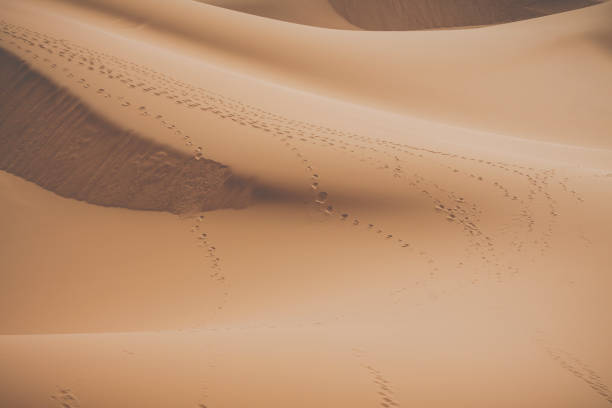animal_footprint: (9, 26, 551, 203), (68, 43, 314, 168), (67, 43, 345, 145), (71, 44, 346, 147), (434, 168, 539, 281), (319, 200, 439, 278), (410, 147, 553, 206), (435, 192, 521, 282), (315, 192, 414, 251), (401, 172, 482, 244), (535, 332, 611, 403), (51, 39, 144, 97), (275, 129, 337, 215), (429, 183, 496, 261), (287, 129, 400, 171), (305, 160, 373, 229), (353, 221, 438, 273), (283, 127, 387, 167), (273, 131, 328, 205), (116, 95, 192, 146), (117, 96, 193, 147), (117, 96, 192, 146), (547, 347, 611, 403), (191, 214, 228, 309), (138, 106, 203, 159), (324, 206, 408, 246), (521, 169, 560, 254), (349, 135, 426, 177), (429, 152, 524, 183), (352, 348, 399, 407), (454, 236, 513, 283), (0, 21, 56, 68), (388, 263, 446, 308), (389, 274, 447, 307), (361, 142, 414, 178), (388, 275, 444, 309), (534, 187, 560, 254), (194, 350, 223, 407), (574, 359, 611, 403), (43, 58, 95, 88), (62, 67, 110, 98), (500, 209, 534, 252), (191, 215, 218, 268), (365, 365, 398, 407), (511, 186, 536, 235), (200, 233, 224, 280), (470, 235, 501, 270), (558, 177, 583, 202), (50, 387, 80, 407), (434, 201, 461, 221), (492, 181, 514, 199), (191, 215, 206, 239), (196, 382, 210, 407), (339, 212, 361, 227), (195, 386, 210, 407), (389, 287, 406, 302), (578, 230, 592, 246), (350, 347, 366, 361), (592, 171, 611, 180), (315, 191, 328, 203), (200, 382, 208, 400), (392, 164, 403, 177), (161, 120, 176, 129), (96, 88, 110, 97), (77, 78, 89, 88), (311, 173, 318, 189), (323, 205, 334, 215), (139, 106, 150, 116), (194, 146, 202, 159), (398, 239, 410, 247), (120, 97, 130, 106), (137, 105, 147, 114), (311, 180, 319, 190), (122, 349, 135, 355), (142, 86, 154, 92), (184, 137, 192, 146), (340, 213, 348, 220), (455, 197, 464, 203), (153, 91, 166, 95), (352, 218, 359, 225), (384, 233, 392, 239), (197, 403, 209, 407), (367, 223, 374, 229), (66, 72, 73, 78), (154, 114, 162, 119), (604, 173, 611, 178), (25, 50, 30, 52)
